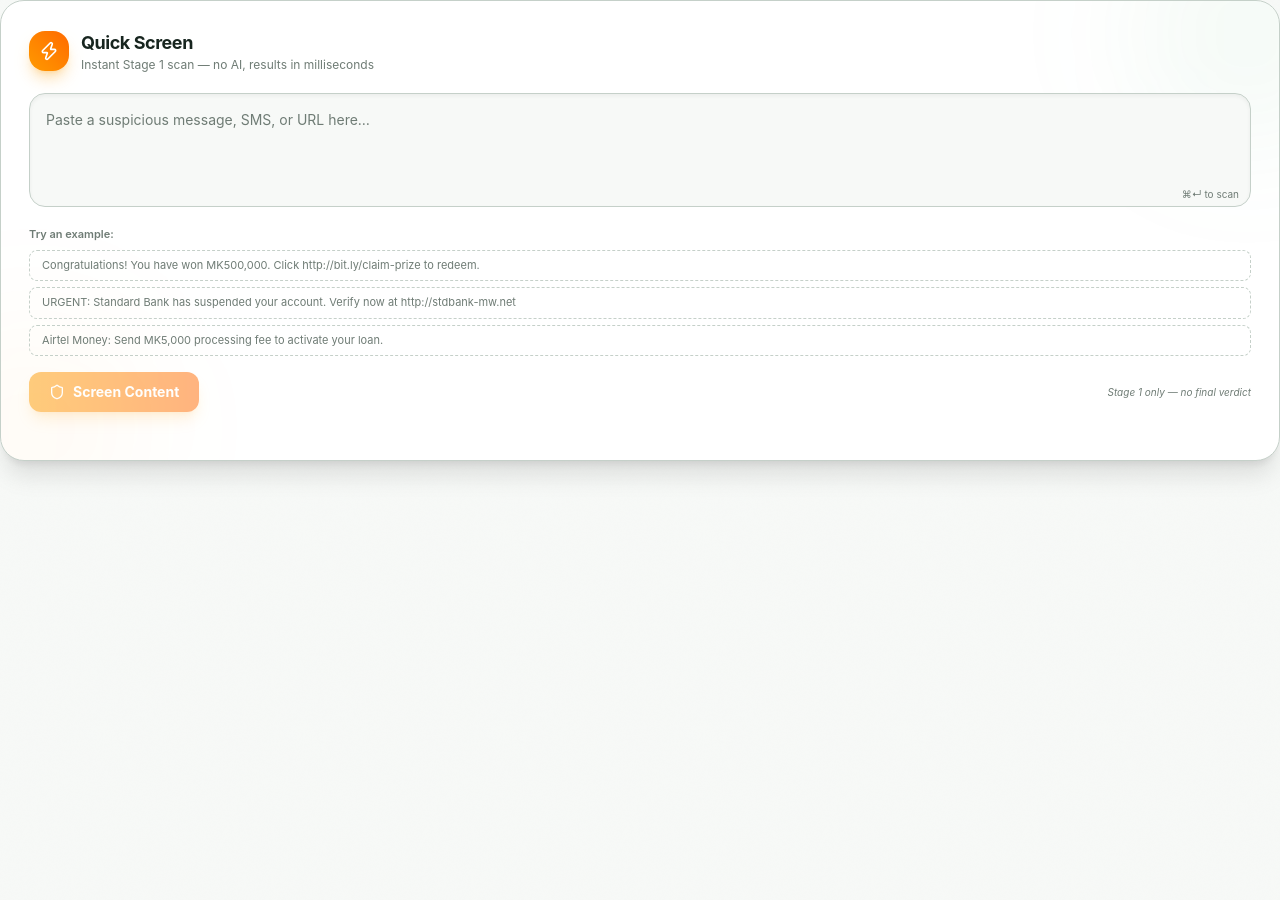
QuickScreenWidget › Screen Content button is enabled after typing
The width and height of the screenshot is (1280, 900).
Type "Congratulations! You have won MK500,000." into the text box with placeholder "Paste a suspicious message, SMS, or URL here…" at (640, 150), box top-left (29, 93), bottom-right (1251, 207)
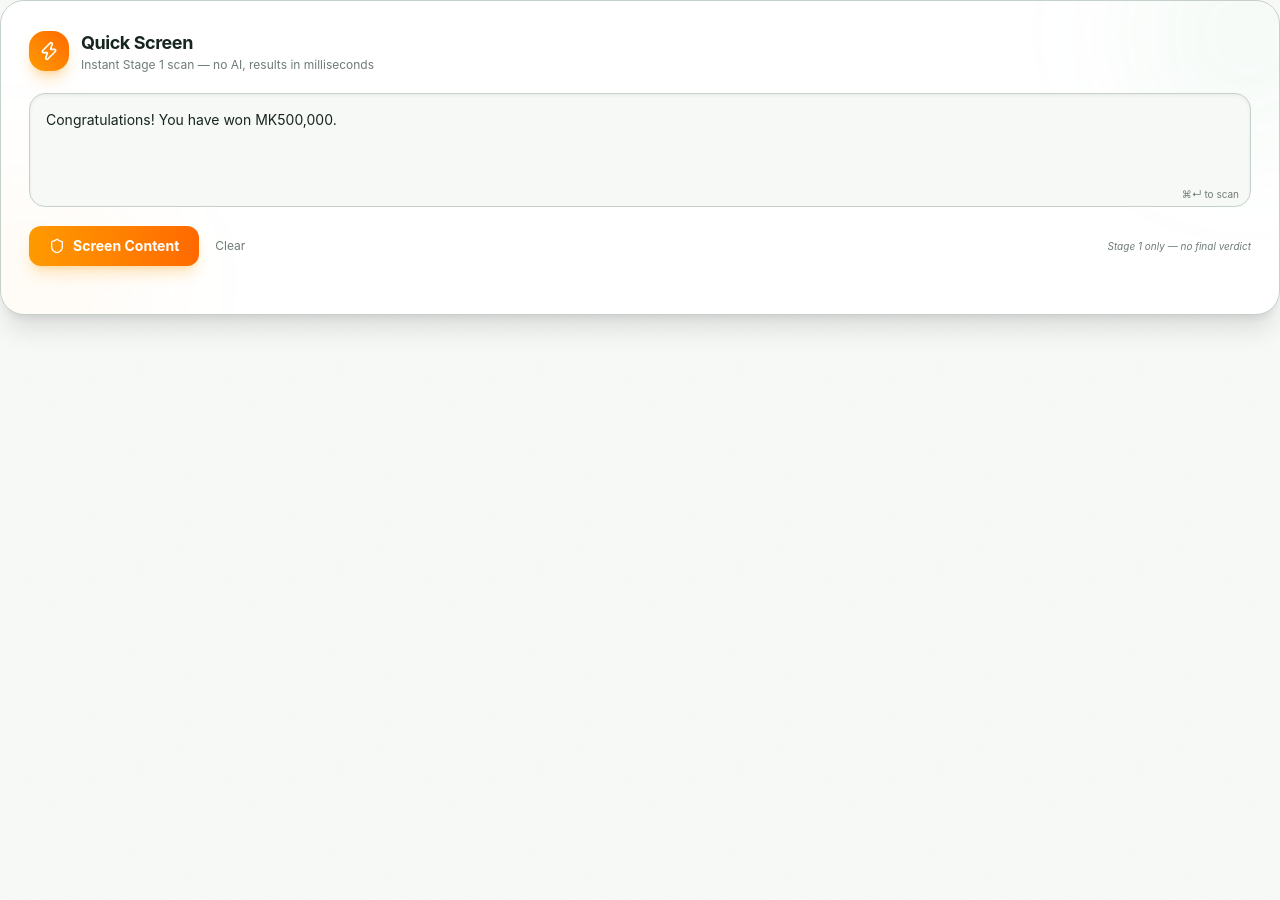
Expected: the button "Screen Content" is enabled, top-left (29, 226), bottom-right (199, 266)
